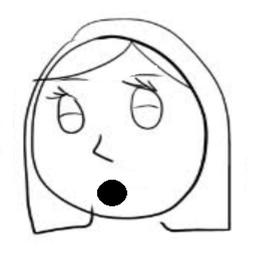eye: (119, 76, 170, 141), (44, 85, 90, 139)
eyebrow: (121, 71, 163, 80), (62, 76, 94, 82)
open_mouth: (90, 176, 130, 212)
pointy_nose: (85, 134, 119, 171)
